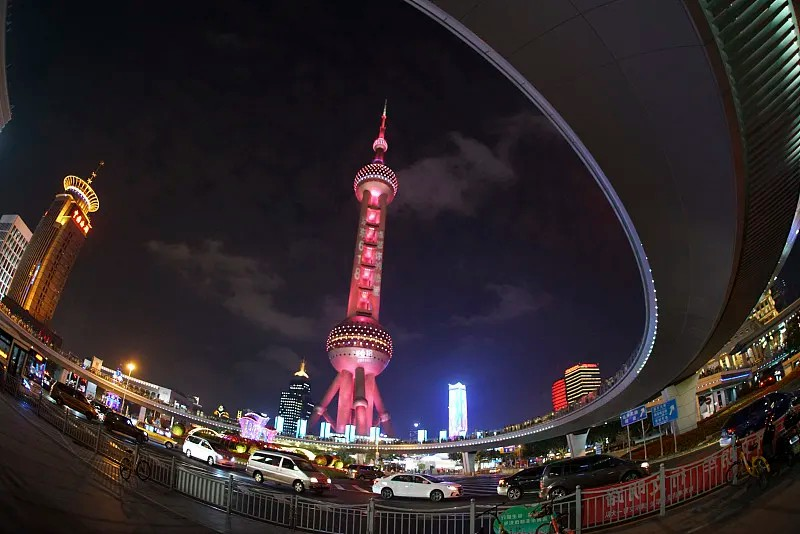Oriental: (307, 98, 398, 435)
